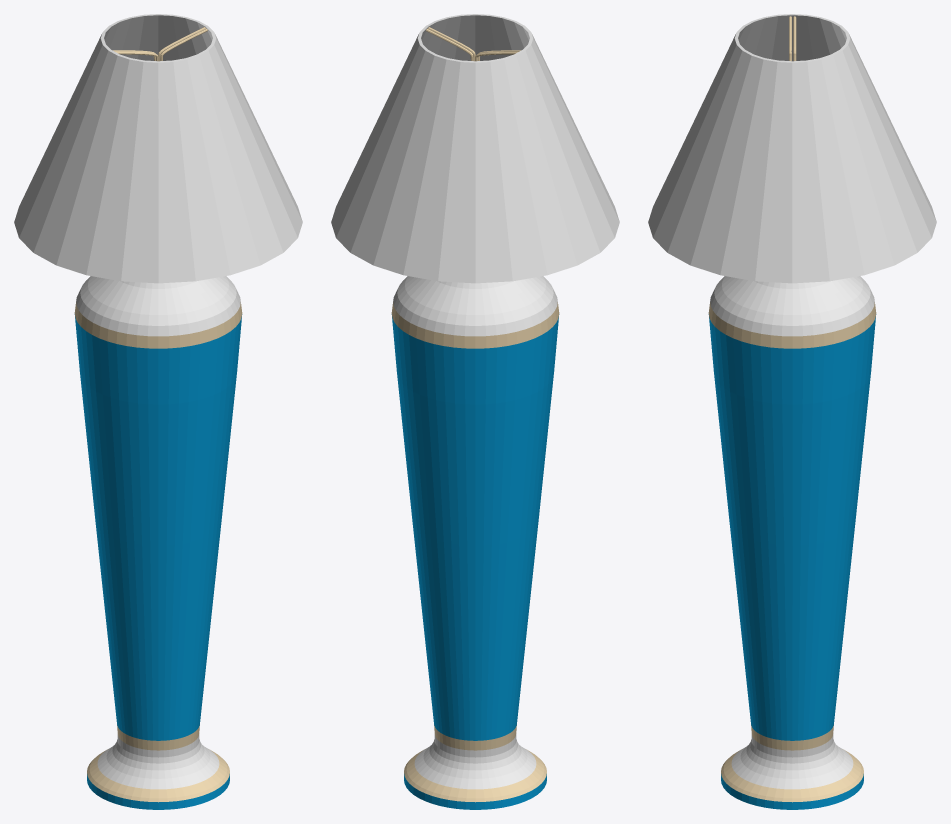
Rendered from sweethome3d-katorlegaz-pedestal-vase-lamp-41.glb.
3 views of the same model, side by side, from view 1: azimuth 30°, elevation 25°; view 2: azimuth 150°, elevation 25°; view 3: azimuth 270°, elevation 25° (orthographic).
Visible parts, largest first — view 1: Lamp_shade_Lamp_shade_Lamp_shade, Pedestal_vase_Pedestal_vase_Pedestal_Vase, Pedestal_vase_Pedestal_vase_White_band, Pedestal_vase_Pedestal_vase_Brass, Lamp_shade_Lamp_shade_Brass; view 2: Lamp_shade_Lamp_shade_Lamp_shade, Pedestal_vase_Pedestal_vase_Pedestal_Vase, Pedestal_vase_Pedestal_vase_White_band, Pedestal_vase_Pedestal_vase_Brass, Lamp_shade_Lamp_shade_Brass; view 3: Lamp_shade_Lamp_shade_Lamp_shade, Pedestal_vase_Pedestal_vase_Pedestal_Vase, Pedestal_vase_Pedestal_vase_White_band, Pedestal_vase_Pedestal_vase_Brass.
Boxes of the visible parts, left/top/right/bottom form: Lamp_shade_Lamp_shade_Lamp_shade: left=14, top=14, right=302, bottom=283; Pedestal_vase_Pedestal_vase_Pedestal_Vase: left=74, top=314, right=242, bottom=809; Pedestal_vase_Pedestal_vase_White_band: left=76, top=276, right=240, bottom=789; Pedestal_vase_Pedestal_vase_Brass: left=74, top=302, right=242, bottom=802; Lamp_shade_Lamp_shade_Brass: left=113, top=27, right=207, bottom=61; Lamp_shade_Lamp_shade_Lamp_shade: left=331, top=14, right=619, bottom=283; Pedestal_vase_Pedestal_vase_Pedestal_Vase: left=391, top=314, right=559, bottom=809; Pedestal_vase_Pedestal_vase_White_band: left=393, top=276, right=557, bottom=789; Pedestal_vase_Pedestal_vase_Brass: left=391, top=302, right=559, bottom=802; Lamp_shade_Lamp_shade_Brass: left=426, top=27, right=520, bottom=61; Lamp_shade_Lamp_shade_Lamp_shade: left=648, top=14, right=936, bottom=283; Pedestal_vase_Pedestal_vase_Pedestal_Vase: left=708, top=314, right=876, bottom=809; Pedestal_vase_Pedestal_vase_White_band: left=710, top=276, right=874, bottom=789; Pedestal_vase_Pedestal_vase_Brass: left=708, top=302, right=876, bottom=802.
Bounding box in the file's own units: 2.83 × 8.01 × 2.83.
